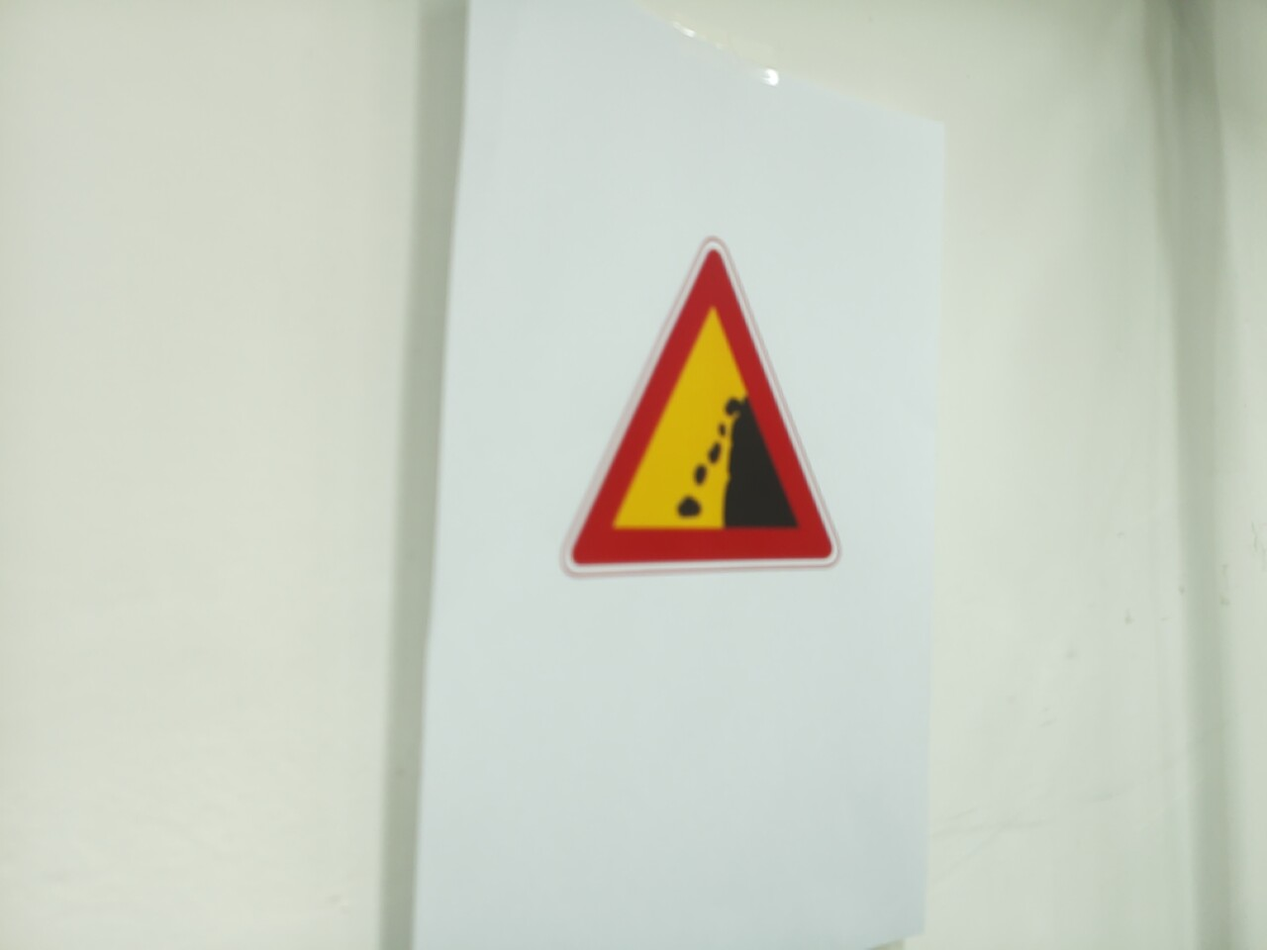falling_rocks: (563, 239, 841, 575)
